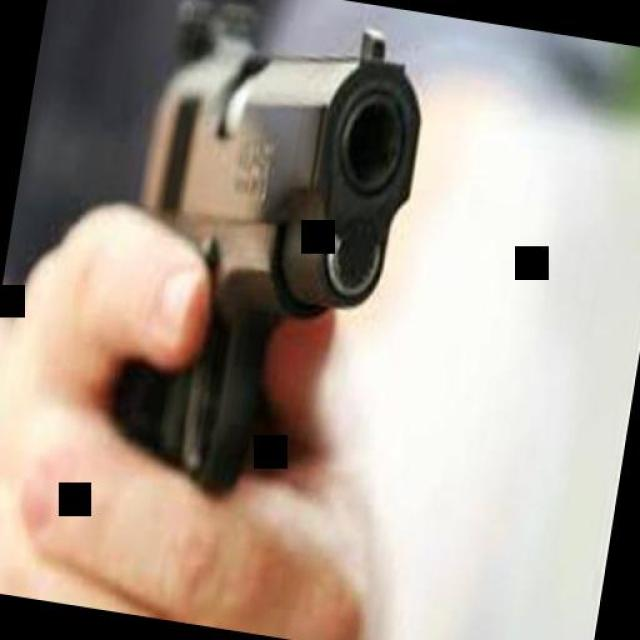gun: (86, 0, 438, 529)
